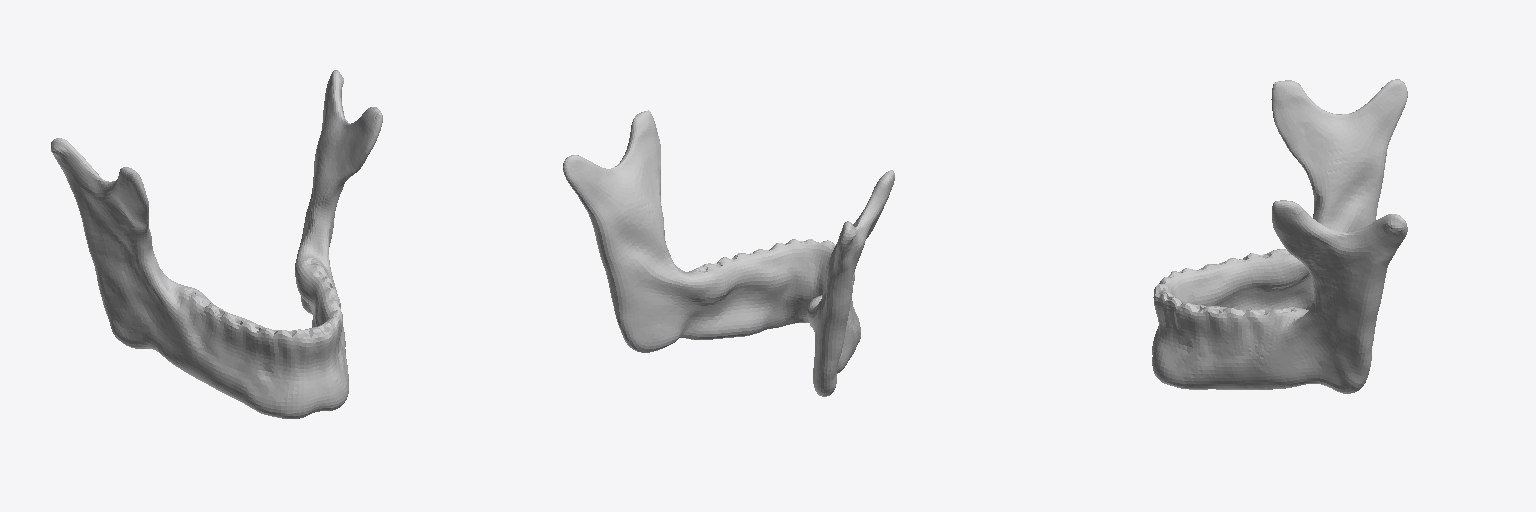
File: Lower_skull.obj
3 views of the same model, side by side, from view 1: azimuth 30°, elevation 25°; view 2: azimuth 150°, elevation 25°; view 3: azimuth 270°, elevation 25° (orthographic).
Visible parts, largest first — view 1: ZBrush_defualt_group; view 2: ZBrush_defualt_group; view 3: ZBrush_defualt_group.
Boxes of the visible parts, box(x1,y1,x2,y2) form: ZBrush_defualt_group: box(51, 70, 382, 418); ZBrush_defualt_group: box(563, 110, 894, 396); ZBrush_defualt_group: box(1152, 79, 1407, 393).
Size of the model in its own units: 1.65 by 1.25 by 1.26.